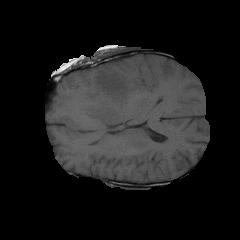glioma: (65, 66, 132, 132)
